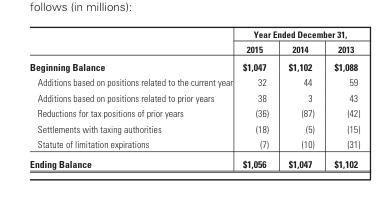table: (29, 28, 359, 168)
table column: (29, 28, 236, 168), (277, 28, 323, 168), (236, 28, 277, 168), (323, 28, 359, 168)
table column header: (29, 28, 359, 57)
table row: (29, 57, 359, 74), (29, 136, 359, 153), (29, 41, 359, 57), (29, 89, 359, 105), (29, 120, 359, 136), (29, 74, 359, 89), (29, 105, 359, 120), (29, 153, 359, 168), (29, 28, 359, 41)
table spanning cell: (236, 28, 359, 41)
